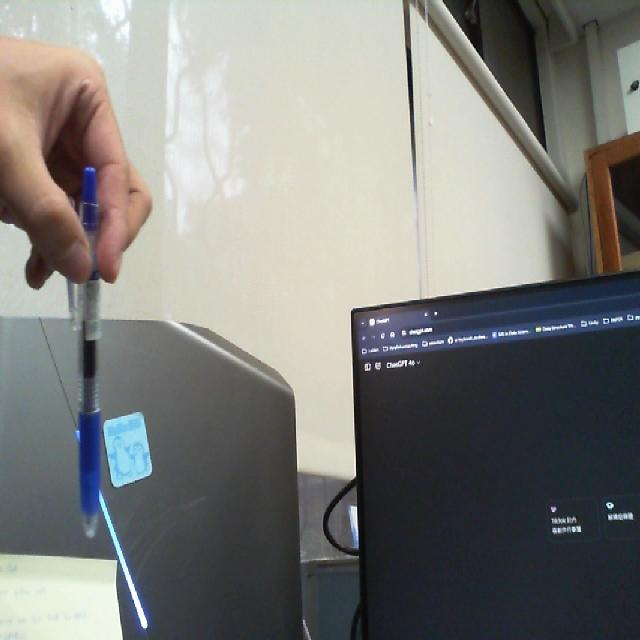Pen: (65, 152, 131, 580)
